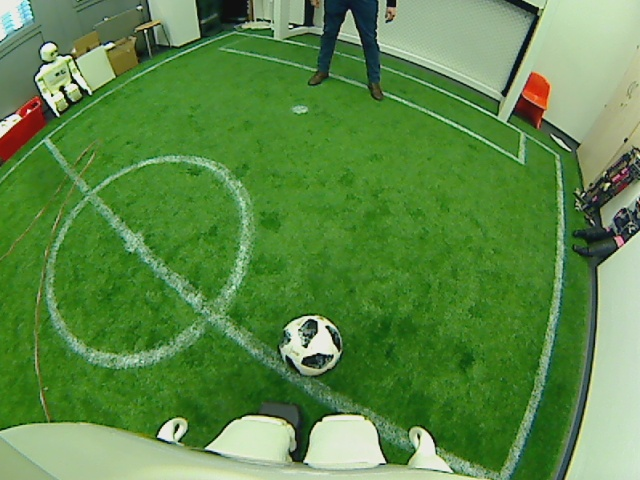ball: (277, 311, 343, 376)
